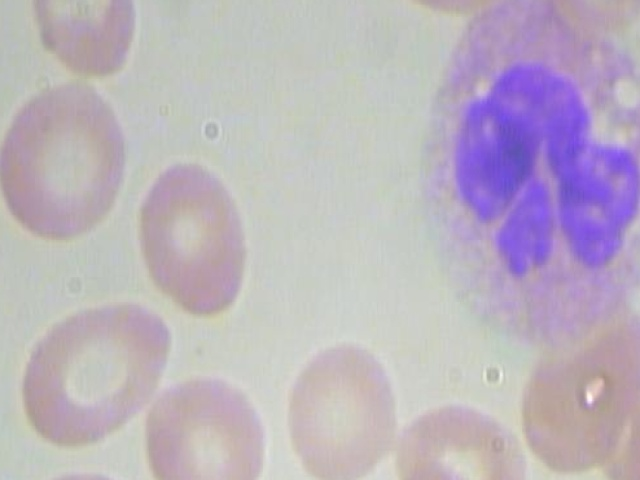RBC: (4, 294, 174, 454), (0, 67, 140, 253), (129, 146, 267, 327), (286, 319, 402, 480), (137, 365, 286, 480), (390, 393, 550, 480), (15, 0, 169, 87), (361, 0, 541, 30), (9, 471, 149, 480)
WBC: (401, 0, 640, 360)
